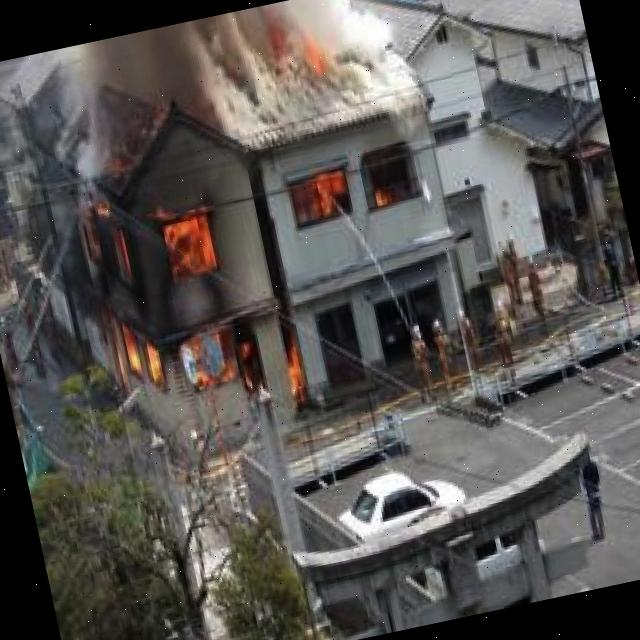fire: (44, 148, 326, 474), (254, 0, 353, 110), (282, 150, 407, 234)
